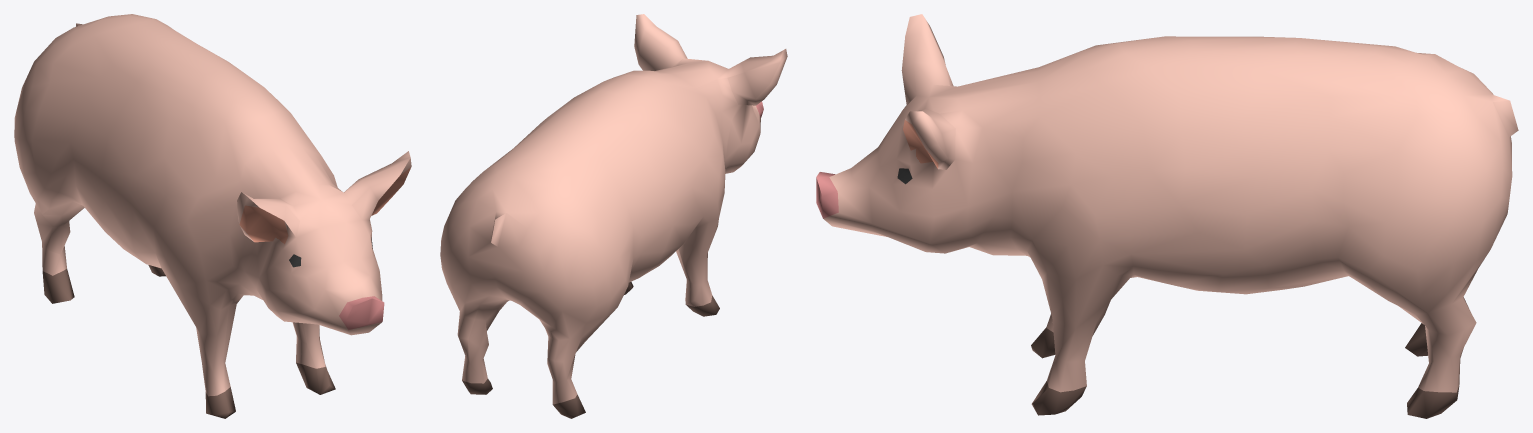
The model's file is pig_005.glb.
The picture shows the model from 3 angles, left to right: view 1: azimuth 30°, elevation 25°; view 2: azimuth 150°, elevation 25°; view 3: azimuth 270°, elevation 25°; orthographic projection. The views are drawn at different scales.
Visible parts, largest first — view 1: pig_005; view 2: pig_005; view 3: pig_005.
Boxes of the visible parts, box(x1,y1,x2,y2) form: pig_005: box(14, 14, 411, 418); pig_005: box(440, 14, 787, 418); pig_005: box(816, 14, 1518, 418).
Size of the model in its own units: 0.6306 by 0.8944 by 1.69.
Materials: 1 (1 with a texture image).
